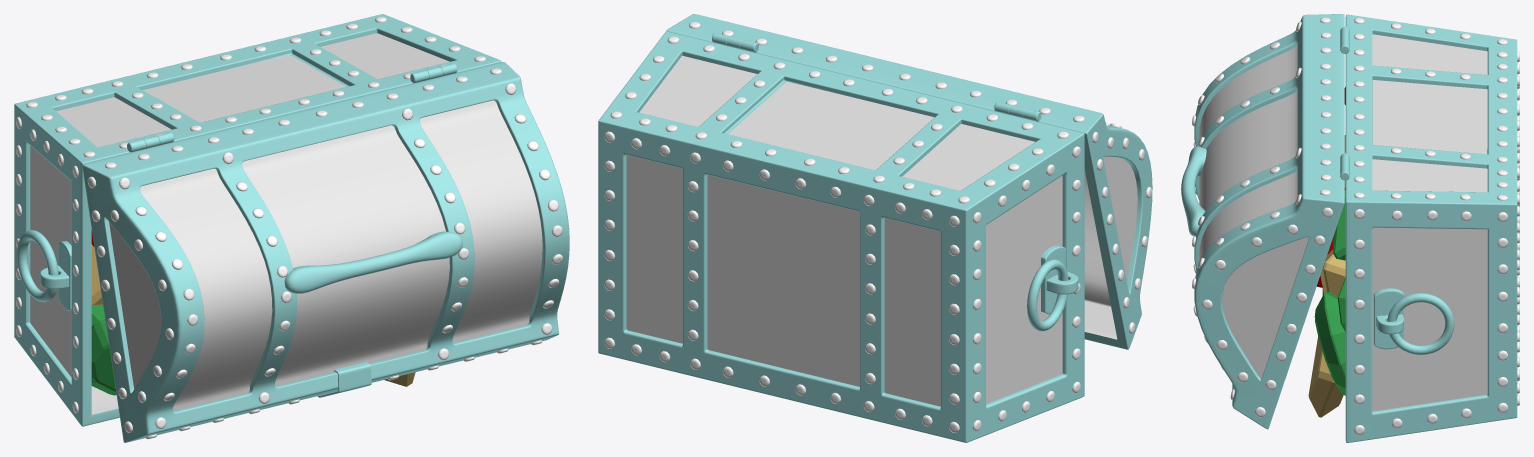
File: takaraB 1.fbx
3 views of the same model, side by side, from view 1: azimuth 30°, elevation 25°; view 2: azimuth 150°, elevation 25°; view 3: azimuth 270°, elevation 25° (orthographic). The views are drawn at different scales.
Parts seen in each view (by area): view 1: _aquarium_treasure_chest_v1_L2:aquarium_treasure_chest_wood, _aquarium_treasure_chest_v1_L2:aquarium_treasure_chest_metal, _aquarium_treasure_chest_v1_L2:aquarium_treasure_chest_bolts, _aquarium_treasure_chest_v1_L2:aquarium_treasure_chest_latch, _aquarium_treasure_chest_v1_L2:aquarium_treasure_chest_stone (×2); view 2: _aquarium_treasure_chest_v1_L2:aquarium_treasure_chest_metal, _aquarium_treasure_chest_v1_L2:aquarium_treasure_chest_wood, _aquarium_treasure_chest_v1_L2:aquarium_treasure_chest_bolts, _aquarium_treasure_chest_v1_L2:aquarium_treasure_chest_latch; view 3: _aquarium_treasure_chest_v1_L2:aquarium_treasure_chest_metal, _aquarium_treasure_chest_v1_L2:aquarium_treasure_chest_wood, _aquarium_treasure_chest_v1_L2:aquarium_treasure_chest_bolts, _aquarium_treasure_chest_v1_L2:aquarium_treasure_chest_stone (×2), _aquarium_treasure_chest_v1_L2:aquarium_treasure_chest_latch.
Boxes of the visible parts, left/top/right/bottom form: _aquarium_treasure_chest_v1_L2:aquarium_treasure_chest_wood: left=30, top=33, right=542, bottom=414; _aquarium_treasure_chest_v1_L2:aquarium_treasure_chest_metal: left=14, top=14, right=569, bottom=442; _aquarium_treasure_chest_v1_L2:aquarium_treasure_chest_bolts: left=16, top=16, right=562, bottom=439; _aquarium_treasure_chest_v1_L2:aquarium_treasure_chest_latch: left=40, top=63, right=457, bottom=397; _aquarium_treasure_chest_v1_L2:aquarium_treasure_chest_stone (×2): left=91, top=244, right=415, bottom=395; _aquarium_treasure_chest_v1_L2:aquarium_treasure_chest_metal: left=598, top=14, right=1152, bottom=442; _aquarium_treasure_chest_v1_L2:aquarium_treasure_chest_wood: left=626, top=56, right=1137, bottom=406; _aquarium_treasure_chest_v1_L2:aquarium_treasure_chest_bolts: left=604, top=22, right=1152, bottom=432; _aquarium_treasure_chest_v1_L2:aquarium_treasure_chest_latch: left=712, top=33, right=1078, bottom=314; _aquarium_treasure_chest_v1_L2:aquarium_treasure_chest_metal: left=1181, top=14, right=1517, bottom=442; _aquarium_treasure_chest_v1_L2:aquarium_treasure_chest_wood: left=1199, top=34, right=1487, bottom=411; _aquarium_treasure_chest_v1_L2:aquarium_treasure_chest_bolts: left=1192, top=17, right=1519, bottom=435; _aquarium_treasure_chest_v1_L2:aquarium_treasure_chest_stone (×2): left=1308, top=135, right=1345, bottom=417; _aquarium_treasure_chest_v1_L2:aquarium_treasure_chest_latch: left=1340, top=27, right=1403, bottom=349.
Size of the model in its own units: 14.7 by 9.27 by 10.43.
